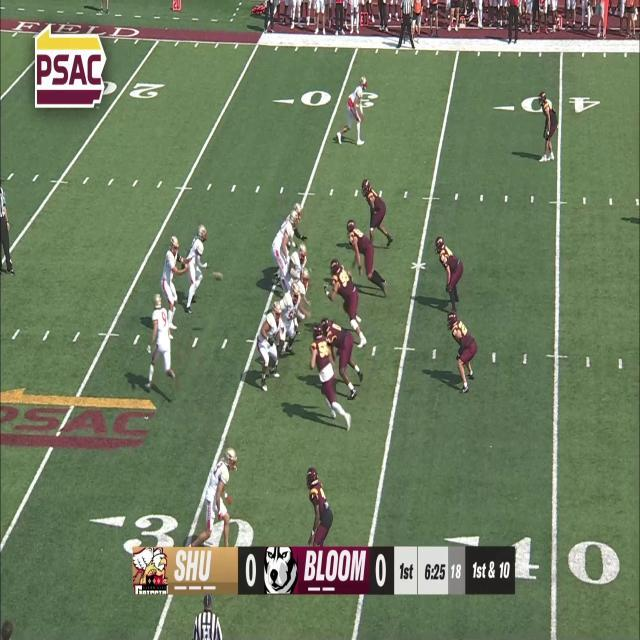football: (212, 269, 224, 283)
